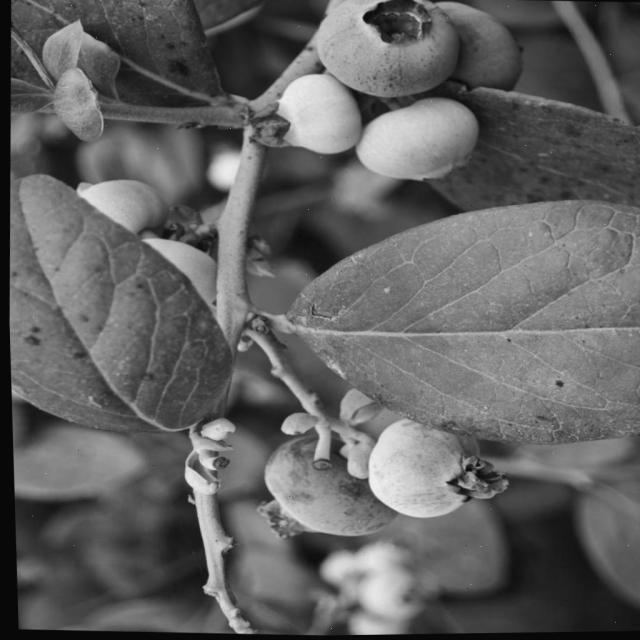RipeBlueBerry: (310, 0, 450, 100)
Semi-RipeBlueBerry: (363, 423, 484, 523)
